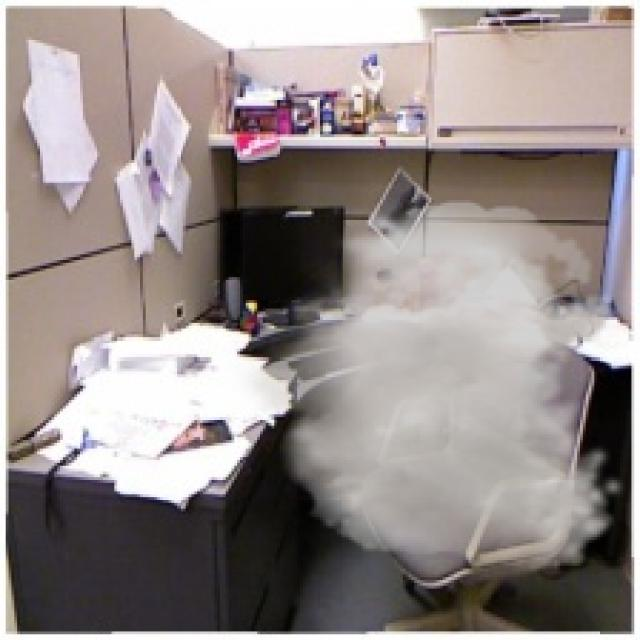smoke: (232, 200, 628, 571)
